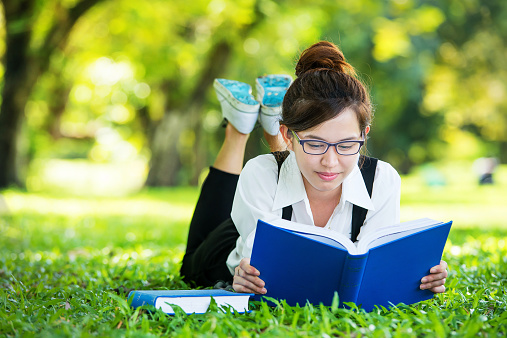deitado: (183, 78, 425, 307)
